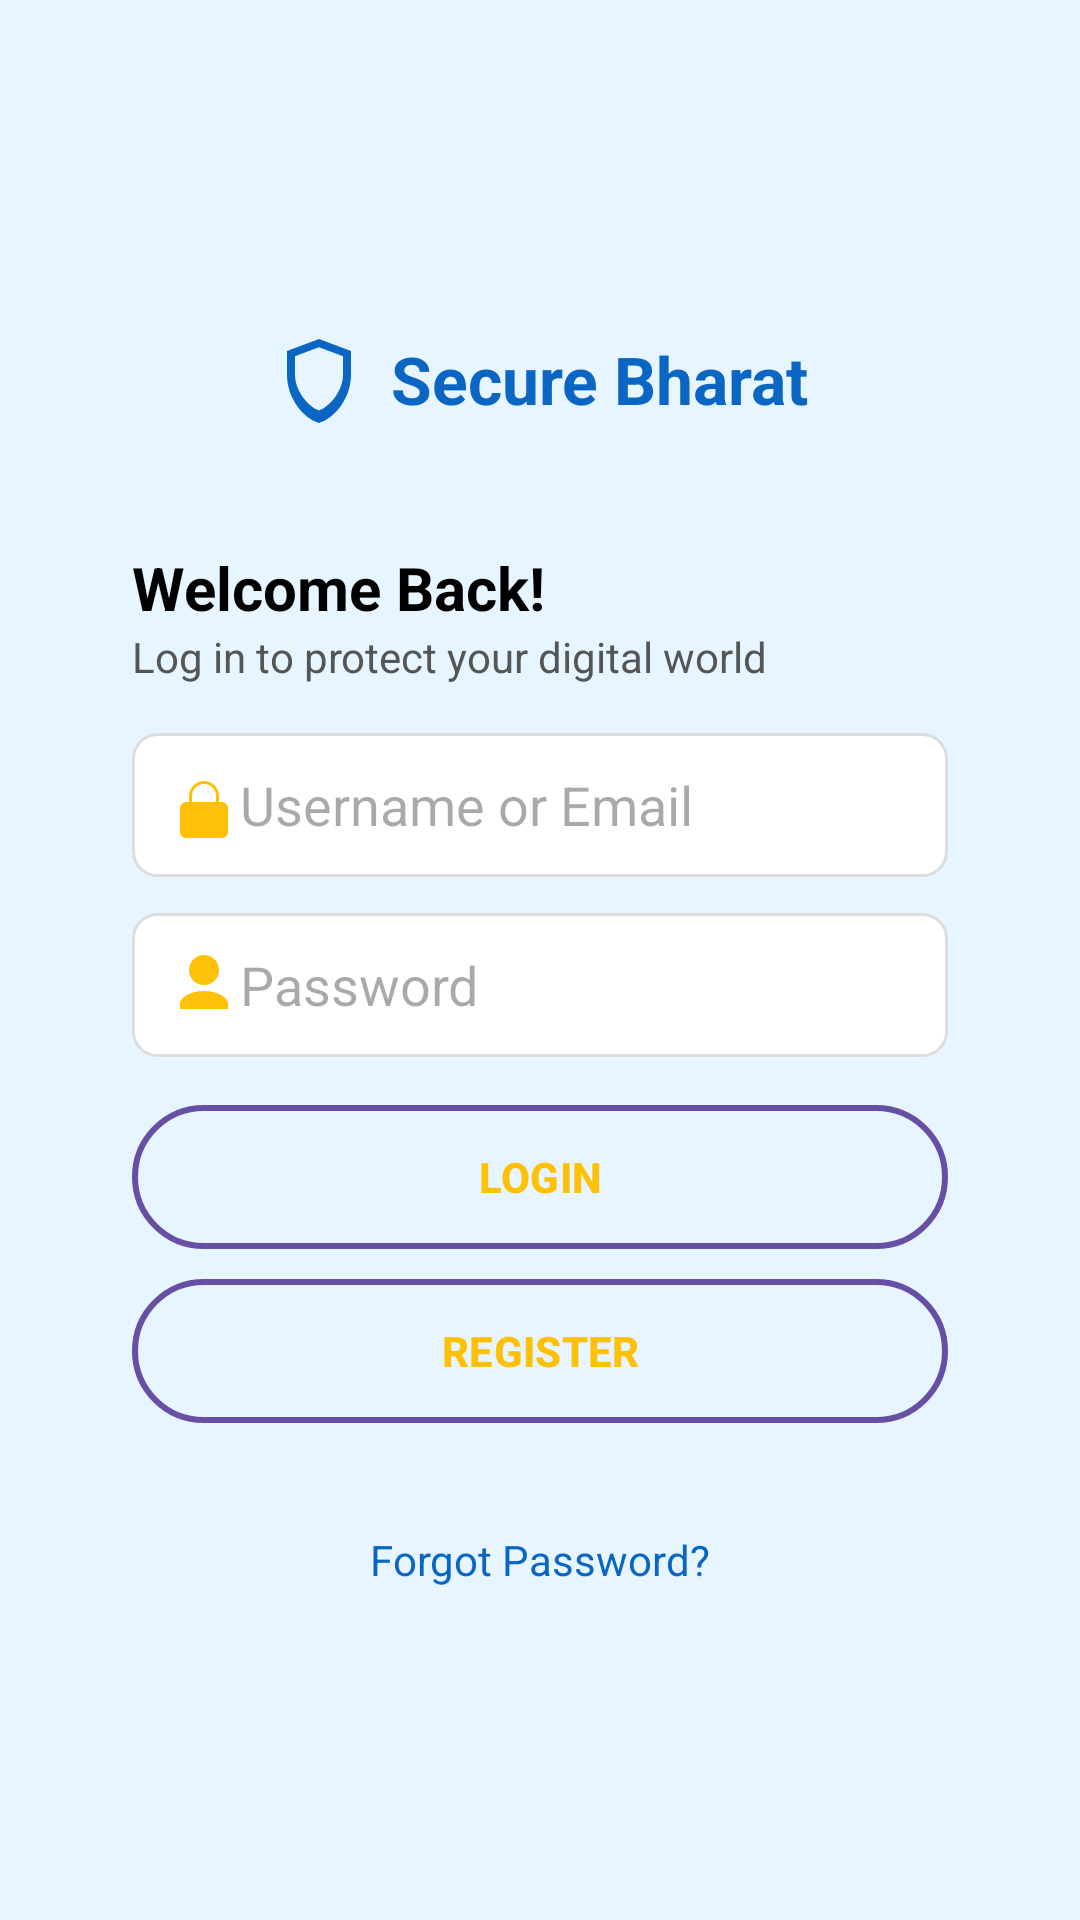

Named icons in this screenshot (1080px x 1920px) and their bounding boxes, Rect(x1, y1, x2, y2):
shield: Rect(287, 339, 351, 423)
